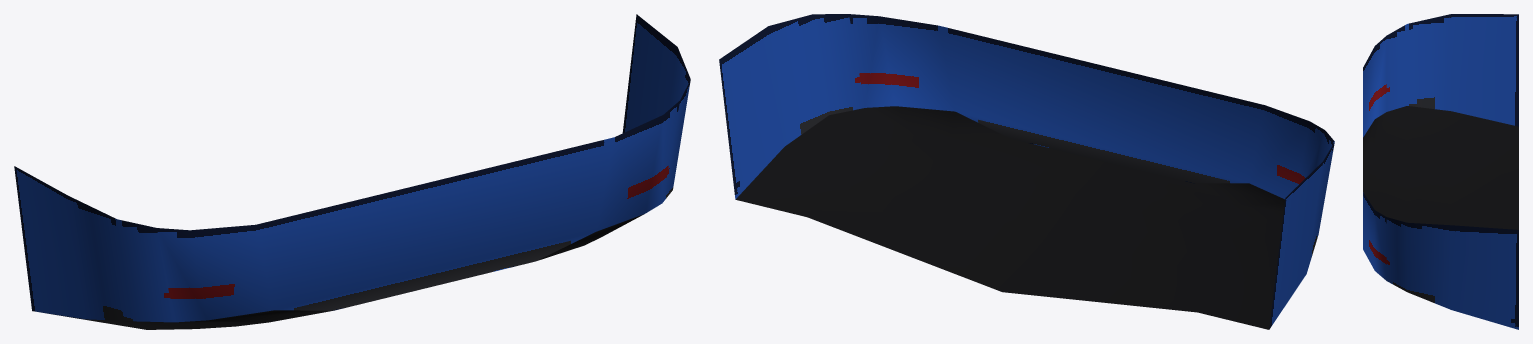
File: bumper_R_stock.glb
The picture shows the model from 3 angles, left to right: view 1: azimuth 30°, elevation 25°; view 2: azimuth 150°, elevation 25°; view 3: azimuth 270°, elevation 25°; orthographic projection. The views are drawn at different scales.
Parts seen in each view (by area): view 1: bumper_R_stock; view 2: bumper_R_stock; view 3: bumper_R_stock.
Boxes of the visible parts, <box> form: bumper_R_stock: <box>14,14,690,329</box>; bumper_R_stock: <box>719,14,1334,329</box>; bumper_R_stock: <box>1363,14,1518,329</box>.
Bounding box in the file's own units: 1.74 × 0.488 × 0.53.
Materials: 1 (1 with a texture image).
